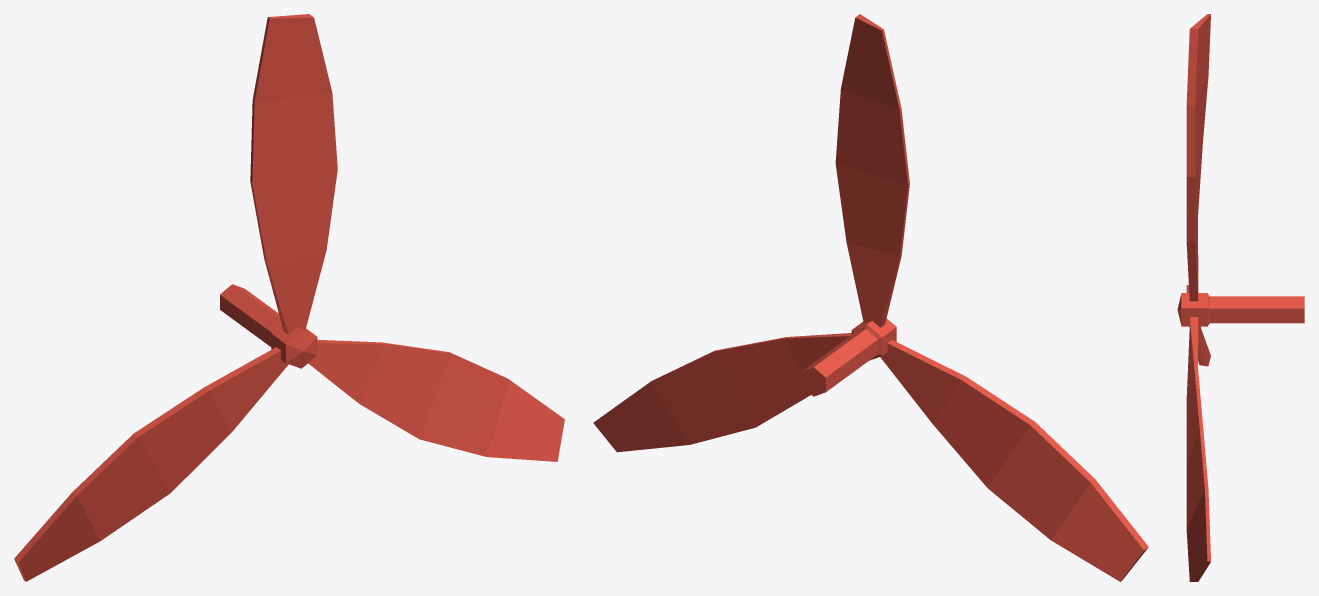
File: SM_Wind_Machine_Propeller.fbx
3 renders of one model, left to right at view 1: azimuth 30°, elevation 25°; view 2: azimuth 150°, elevation 25°; view 3: azimuth 270°, elevation 25°, orthographic. The views are drawn at different scales.
Visible parts, largest first — view 1: SM_Wind_Machine_Propeller; view 2: SM_Wind_Machine_Propeller; view 3: SM_Wind_Machine_Propeller.
Boxes of the visible parts, x1=… form: SM_Wind_Machine_Propeller: x1=14, y1=14, x2=564, y2=581; SM_Wind_Machine_Propeller: x1=593, y1=14, x2=1148, y2=581; SM_Wind_Machine_Propeller: x1=1177, y1=14, x2=1304, y2=581.
Bounding box in the file's own units: 24.74 × 111 × 96.16.
